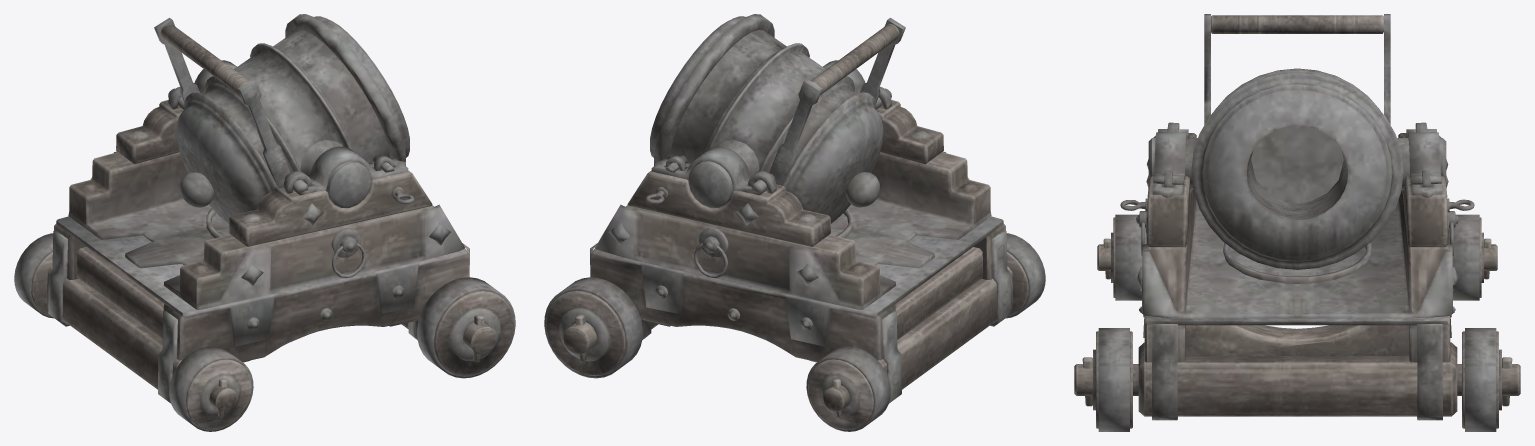
The model's file is Mortar3-transformed.glb.
3 views of the same model, side by side, from view 1: azimuth 30°, elevation 25°; view 2: azimuth 150°, elevation 25°; view 3: azimuth 270°, elevation 25° (orthographic). The views are drawn at different scales.
Visible parts, largest first — view 1: Mortar3; view 2: Mortar3; view 3: Mortar3.
Part boxes in pixels (box(x1,y1,x2,y2)): Mortar3: box(14, 14, 515, 431); Mortar3: box(544, 14, 1045, 431); Mortar3: box(1074, 14, 1520, 431).
Bounding box in the file's own units: 2.51 × 2.23 × 2.79.
Materials: 1 (1 with a texture image).
